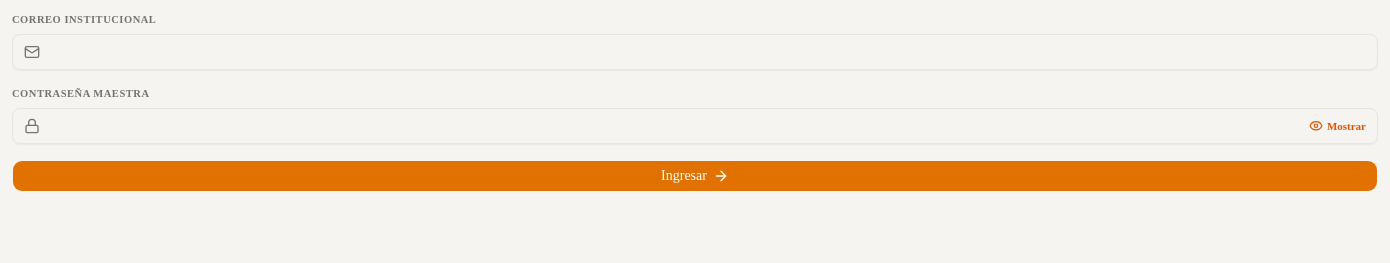
Scenario: SuperAdminLoginForm › shows one generic error on failure, never distinguishing wrong email from wrong password
The image size is (1390, 263).
Type "owner@torqueflow.test" into the field labelled "Correo institucional" at [695, 52], box [12,34,1378,70]
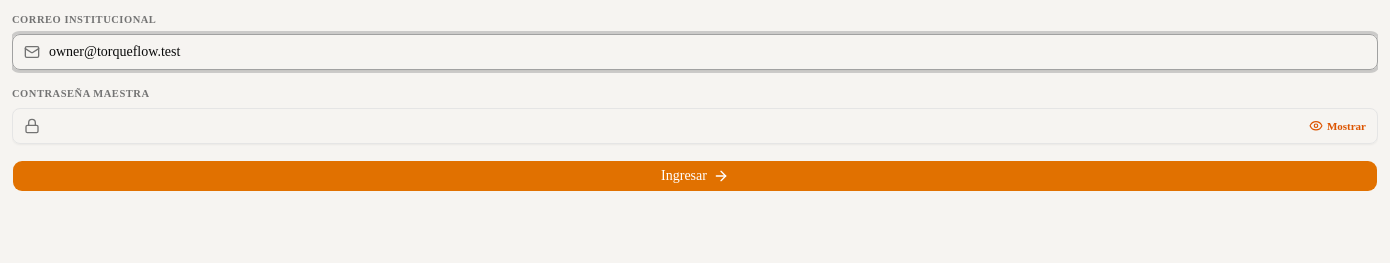
Type "incorrecta" into the password field labelled "Contraseña maestra" at [695, 126], box [12,108,1378,144]
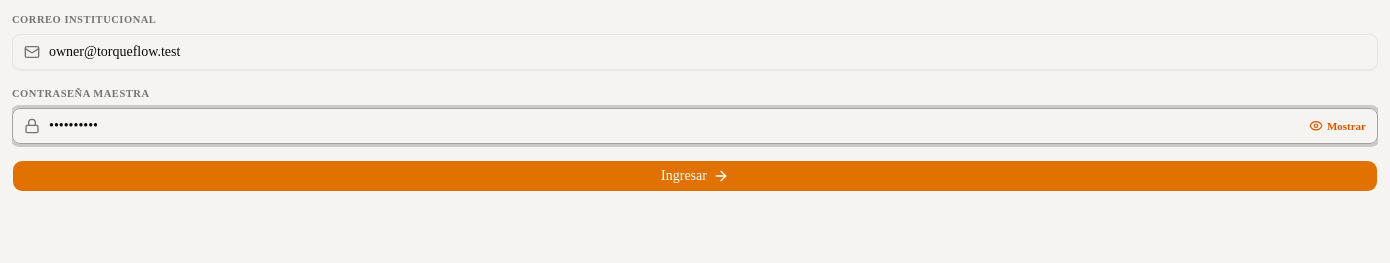
Click the button "Ingresar" at [695, 176], box [12,160,1378,192]
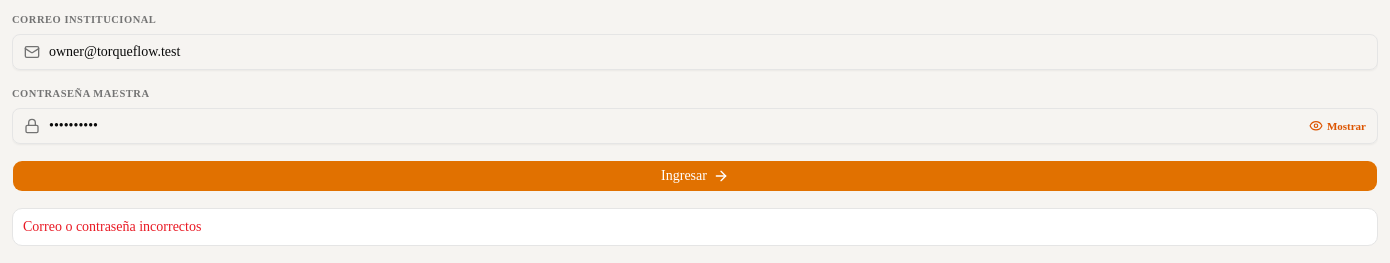
Now the message reads "Correo o contraseña incorrectos", box [23,218,201,234]
